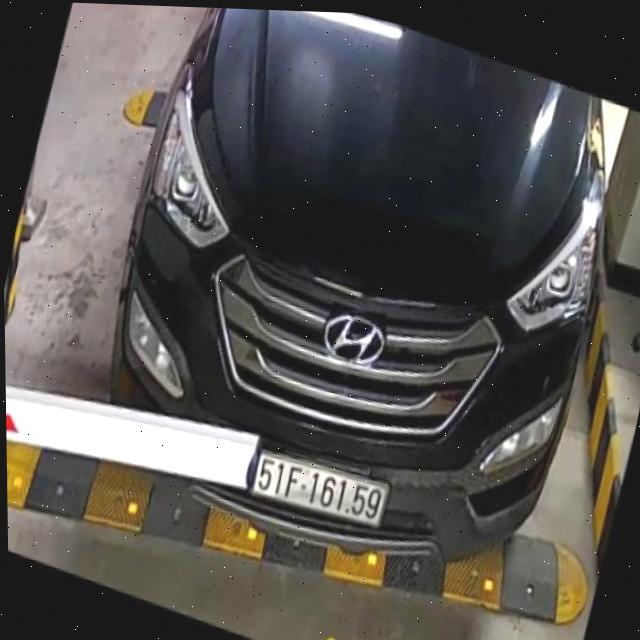car: (66, 2, 640, 610)
plate: (242, 443, 396, 535)
